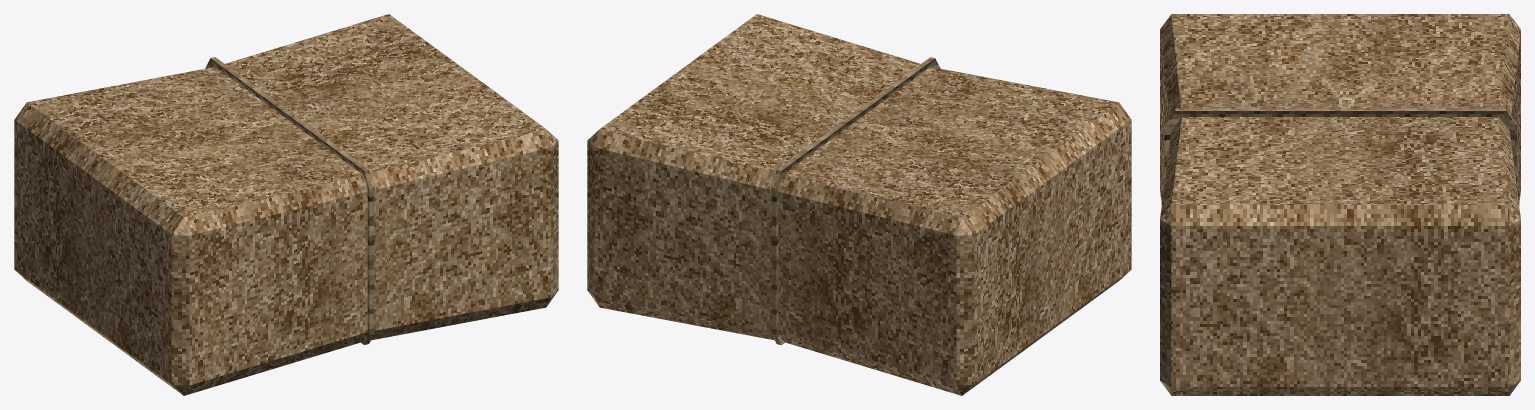
Rendered from haybale_wrapped.glb.
The picture shows the model from 3 angles, left to right: view 1: azimuth 30°, elevation 25°; view 2: azimuth 150°, elevation 25°; view 3: azimuth 270°, elevation 25°; orthographic projection. The views are drawn at different scales.
Parts seen in each view (by area): view 1: haybale_wrapped; view 2: haybale_wrapped; view 3: haybale_wrapped.
Boxes of the visible parts, <box> form: haybale_wrapped: <box>14,14,558,395</box>; haybale_wrapped: <box>587,14,1131,395</box>; haybale_wrapped: <box>1160,14,1520,395</box>.
Bounding box in the file's own units: 1.8 × 0.7983 × 1.35.
Materials: 2 (2 with a texture image).
